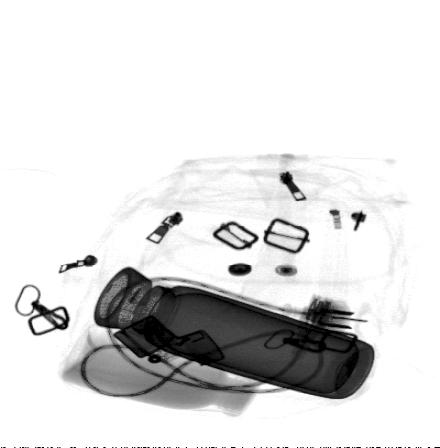Lighter: (113, 313, 227, 367)
